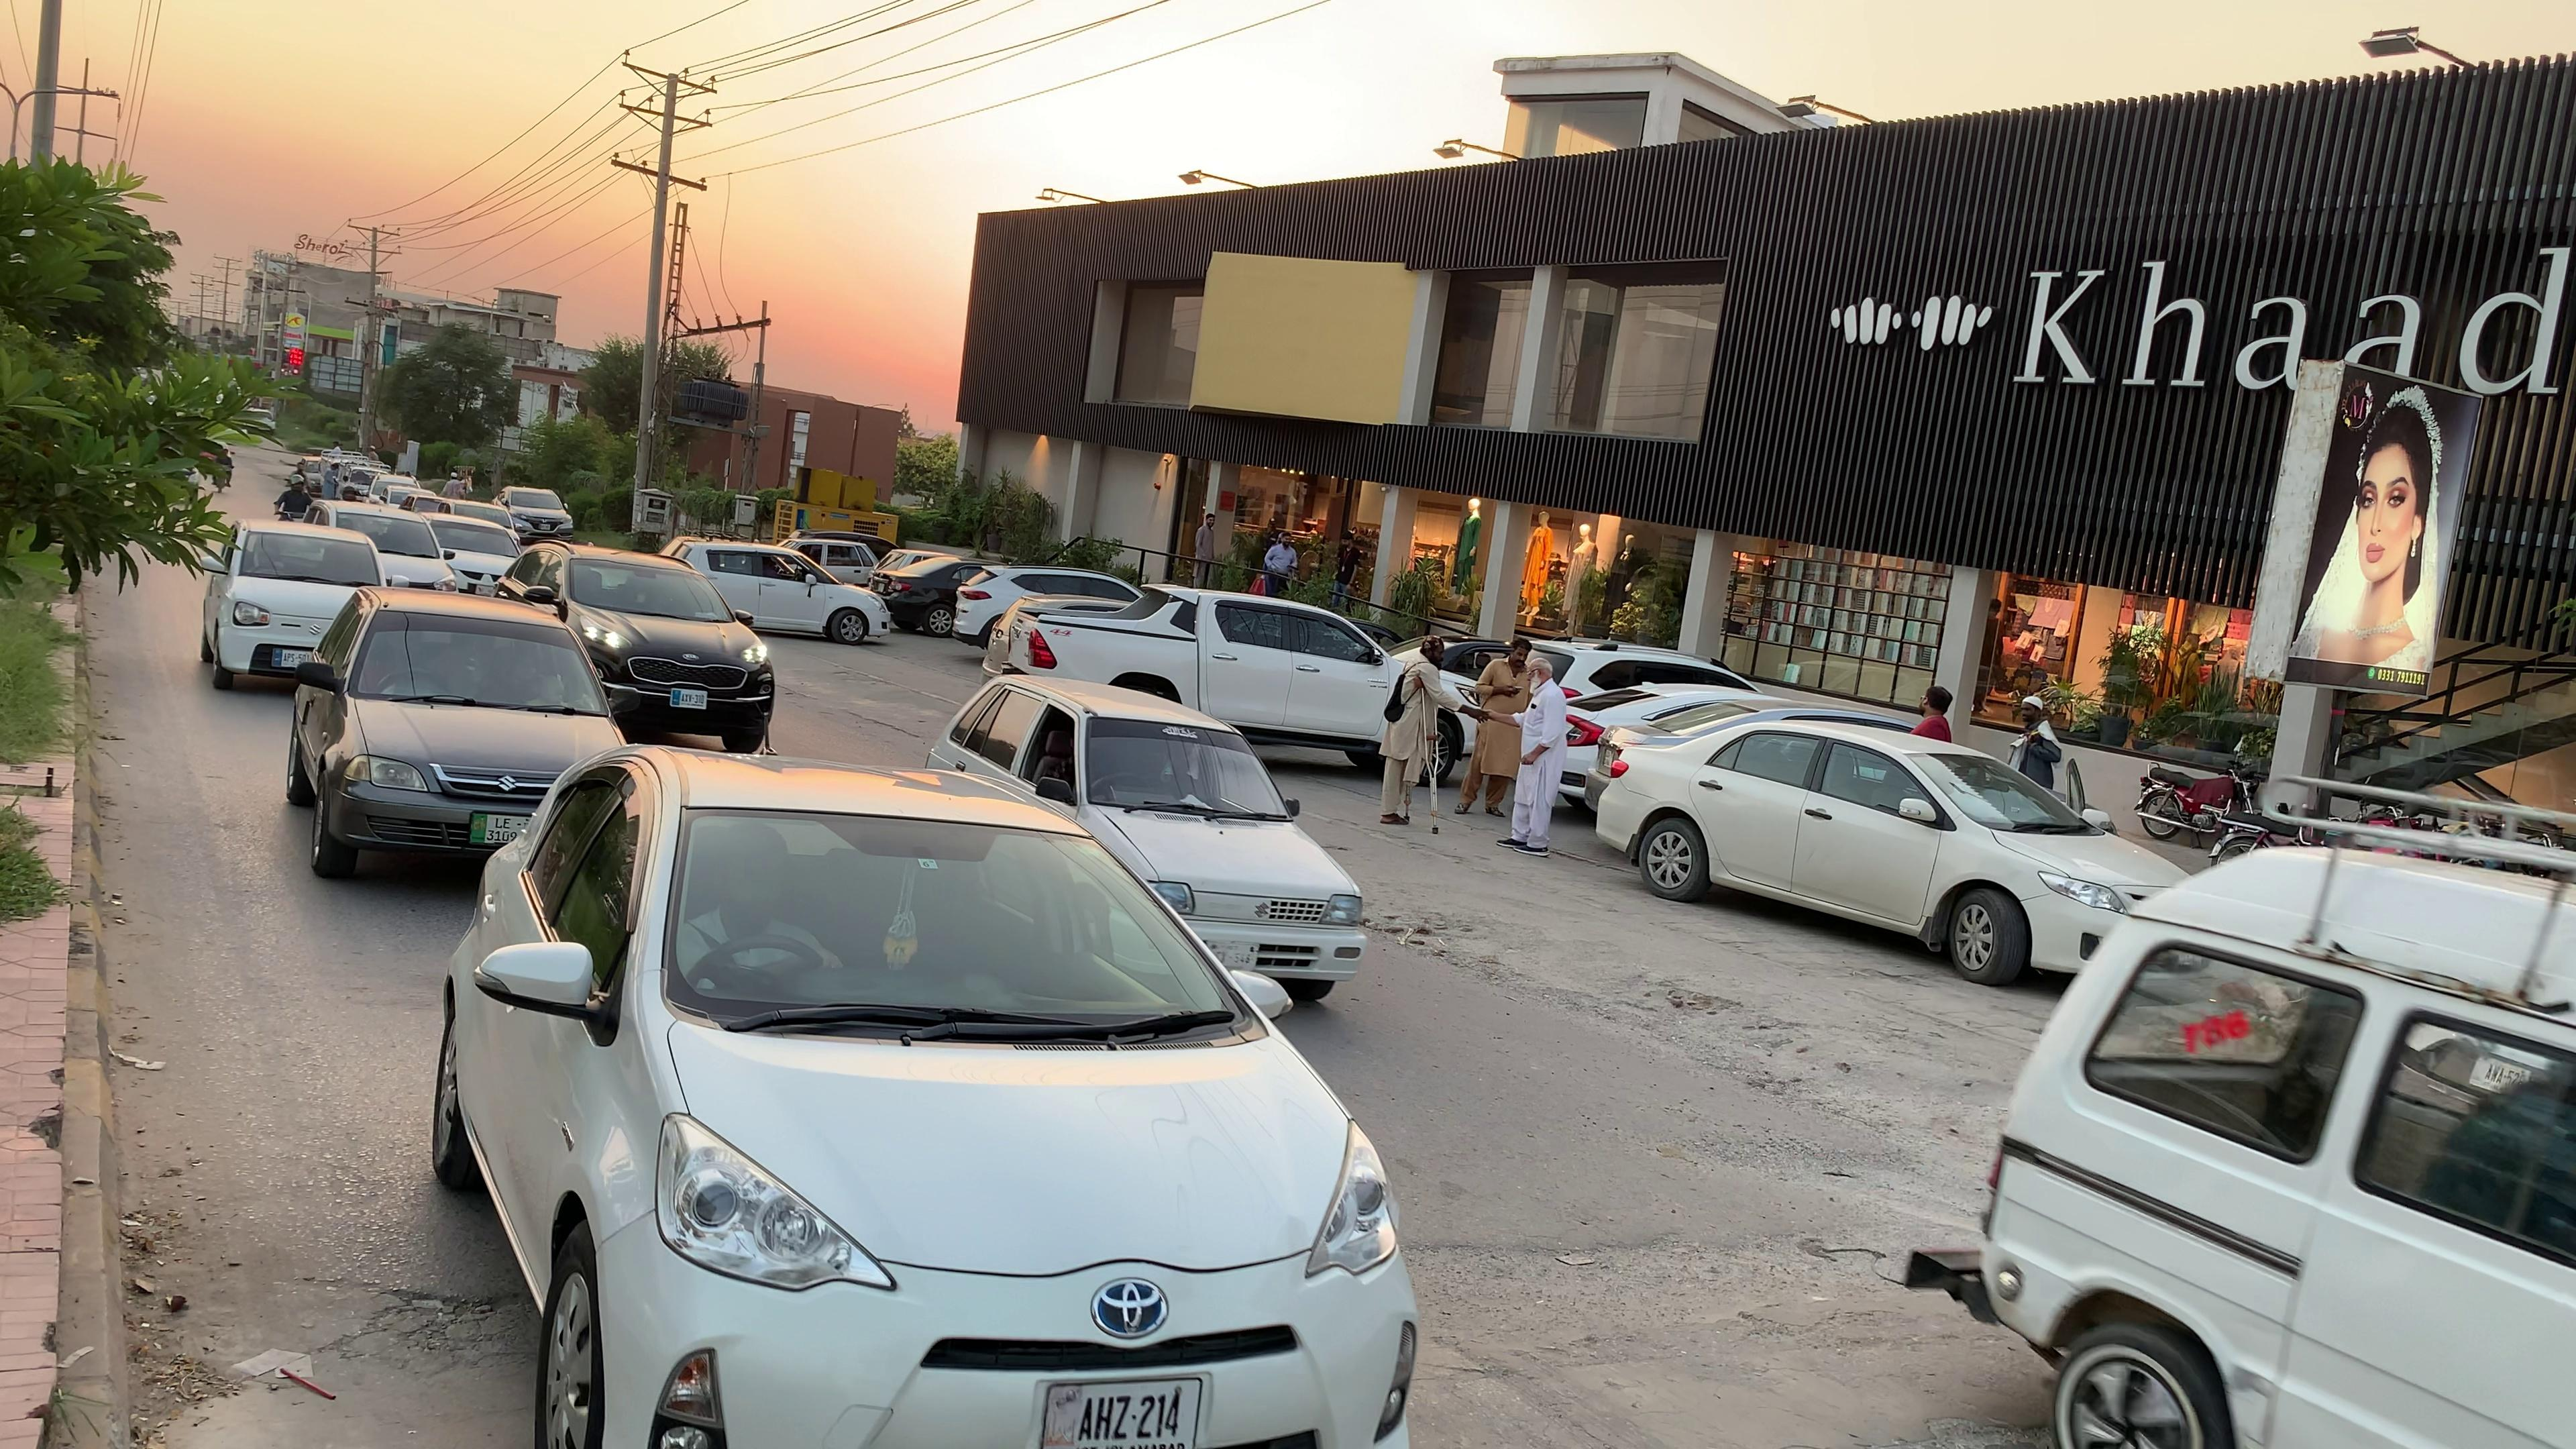windshield: (655, 775, 1299, 1040), (336, 591, 621, 715)
